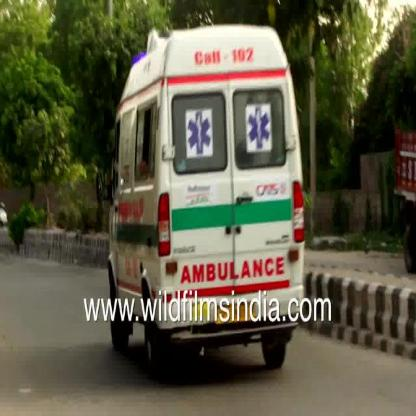priority: (102, 22, 314, 362)
